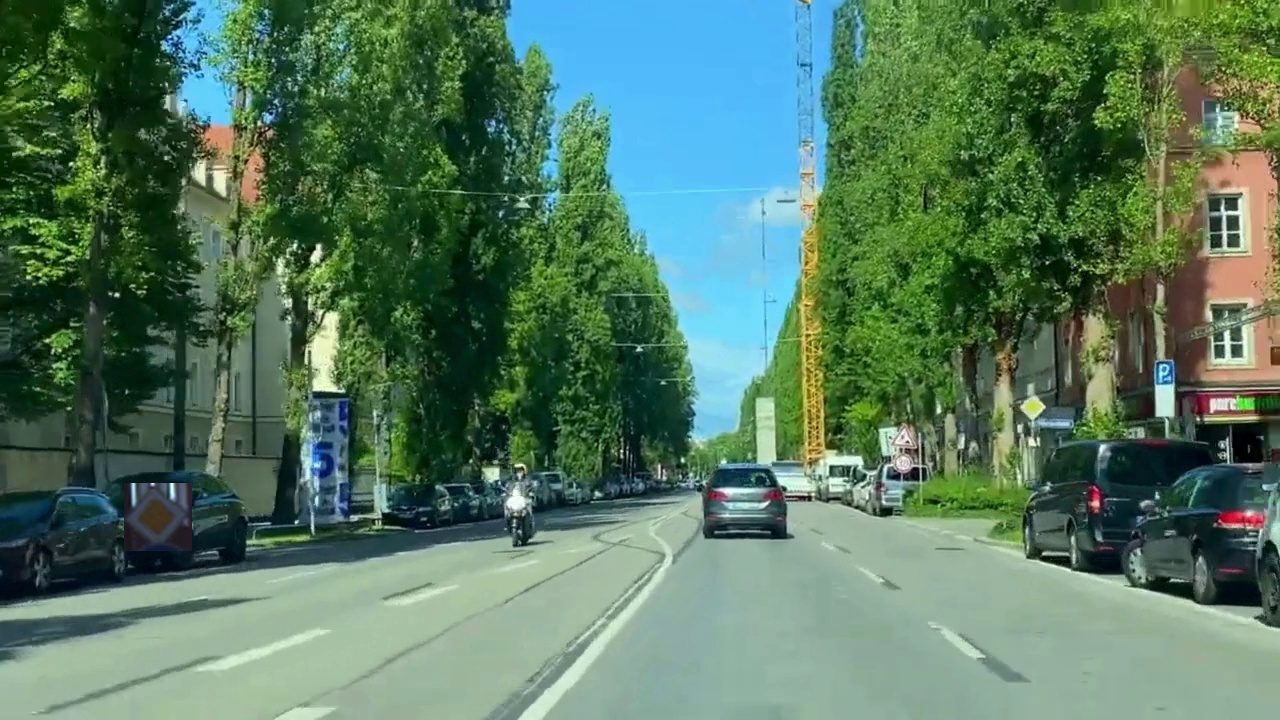Priority road: (124, 483, 192, 551)
